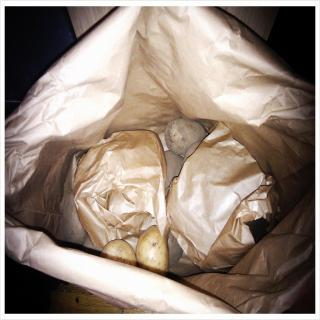Potato: (131, 226, 168, 272)
